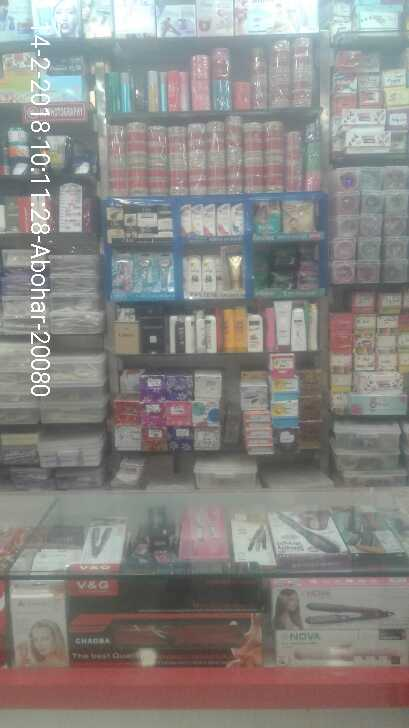venus: (114, 253, 135, 290), (135, 253, 155, 290), (155, 254, 172, 290)
